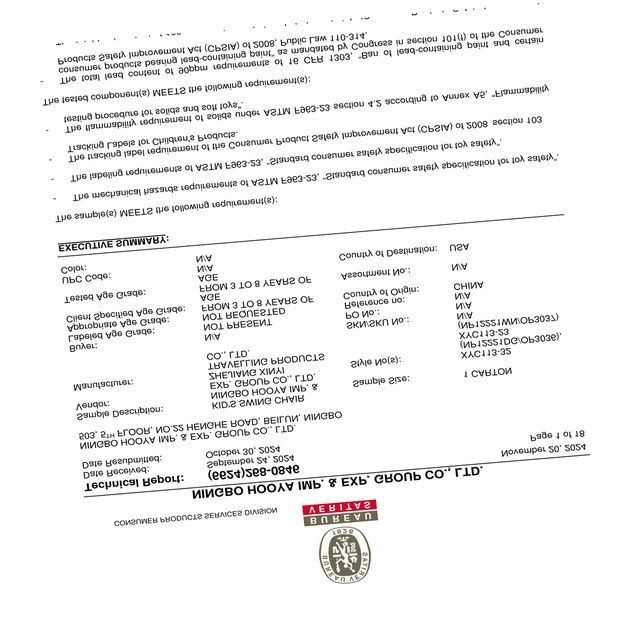bureau_veritas: (301, 499, 382, 587)
